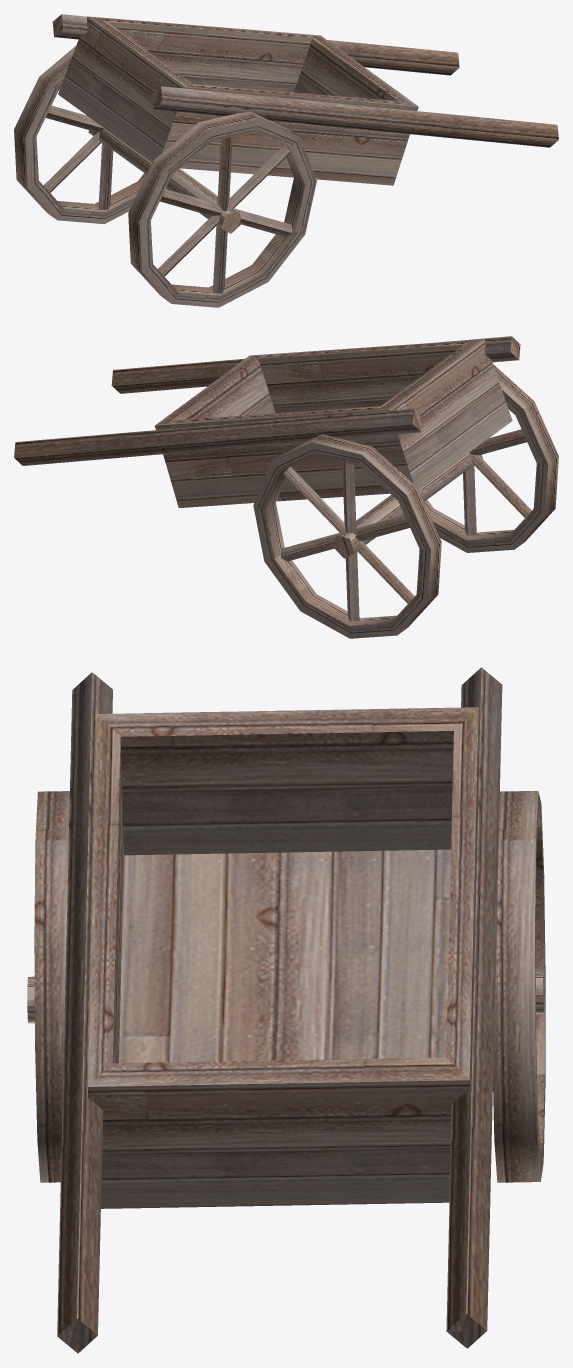
The model's file is handcart.glb.
3 renders of one model, top to bottom at view 1: azimuth 30°, elevation 25°; view 2: azimuth 150°, elevation 25°; view 3: azimuth 270°, elevation 25°, orthographic. The views are drawn at different scales.
Size of the model in its own units: 3.97 by 2 by 2.09.
1 material, 1 textured.
